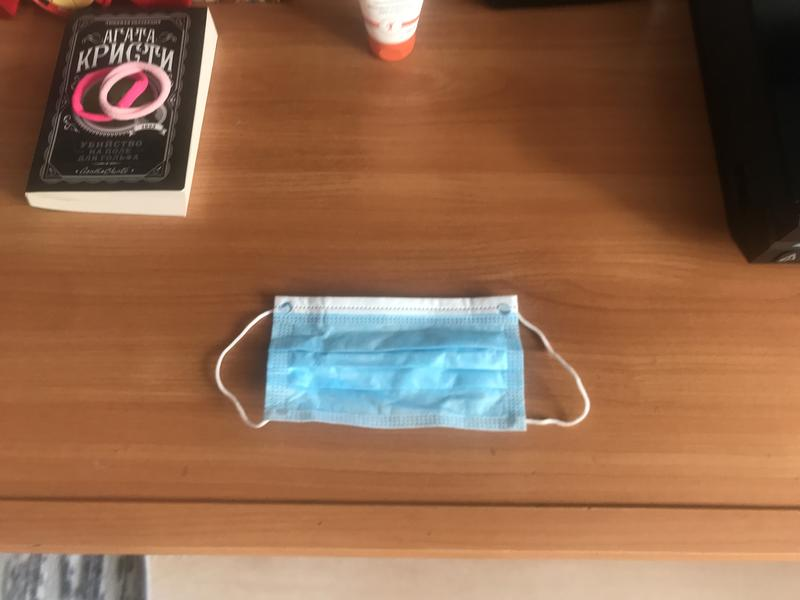medical_mask: (217, 293, 591, 432)
